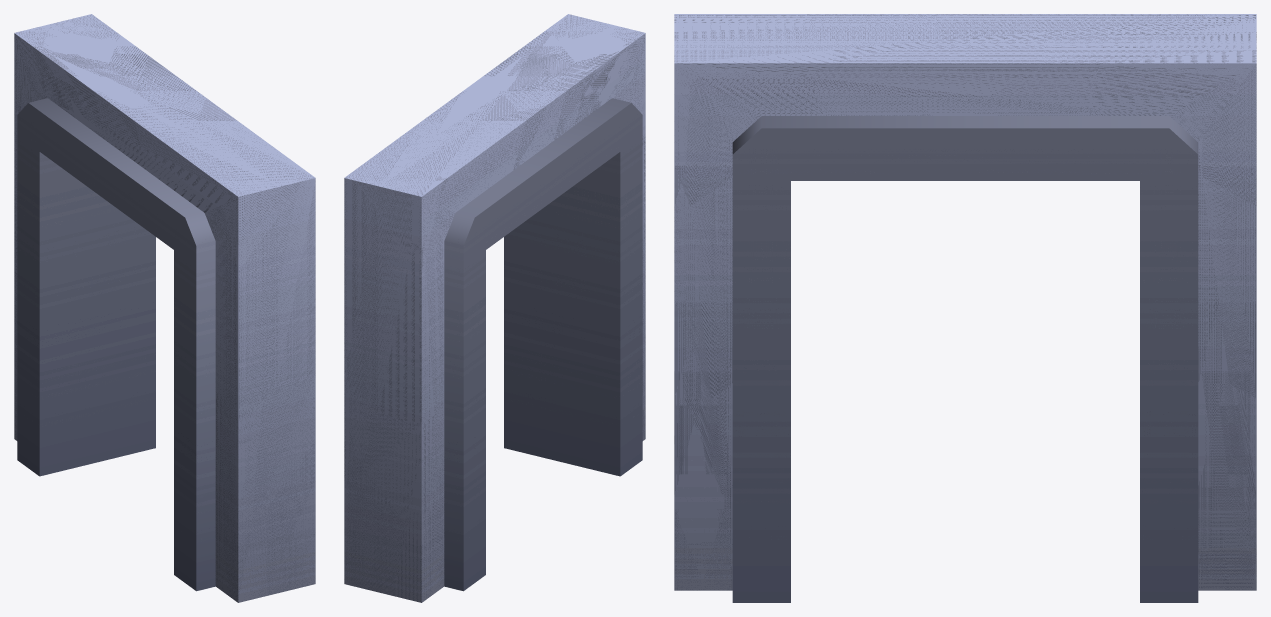
Rendered from wall-doorway.glb.
3 renders of one model, left to right at view 1: azimuth 30°, elevation 25°; view 2: azimuth 150°, elevation 25°; view 3: azimuth 270°, elevation 25°, orthographic. The views are drawn at different scales.
Parts seen in each view (by area): view 1: wall-doorway-col; view 2: wall-doorway-col; view 3: wall-doorway-col.
Part boxes in pixels (x1,y1,x2,y2): wall-doorway-col: (14,14,315,602); wall-doorway-col: (344,14,645,602); wall-doorway-col: (674,14,1256,602).
Size of the model in its own units: 0.3 by 1 by 1.
Materials: 1 (1 with a texture image).
